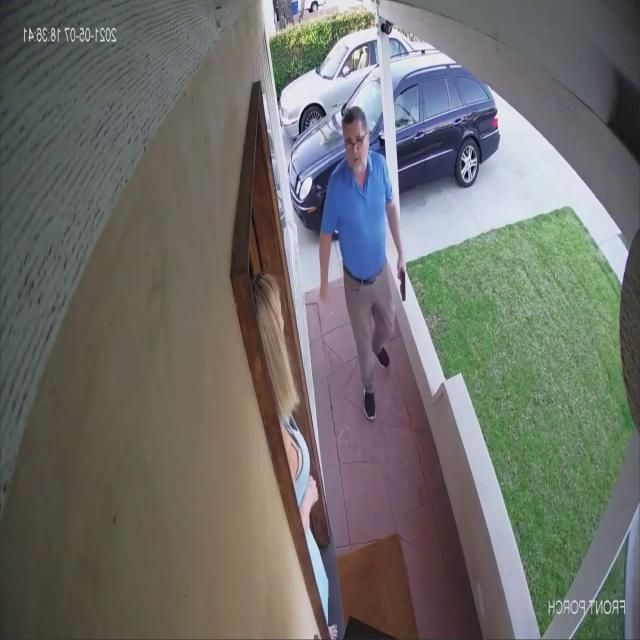Gun: (398, 264, 408, 304)
